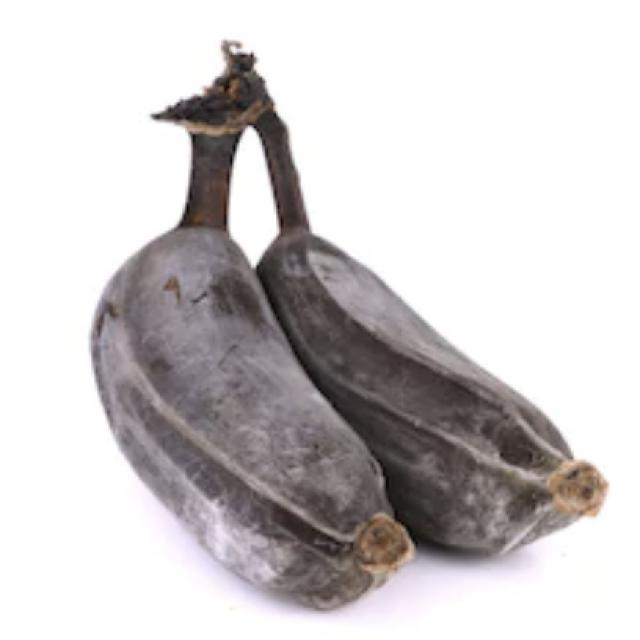rotten-banana: (304, 237, 593, 565), (87, 220, 293, 606)
